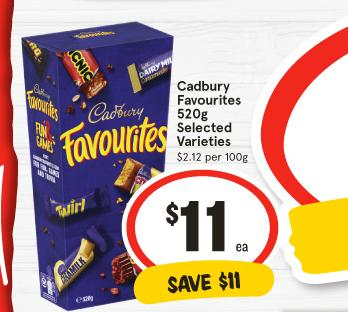description_block: (164, 69, 248, 148)
price_main: (118, 171, 278, 264)
product_image_block: (12, 20, 163, 308)
promo_text_block: (131, 258, 274, 302)
unit_price_block: (170, 149, 258, 168)
